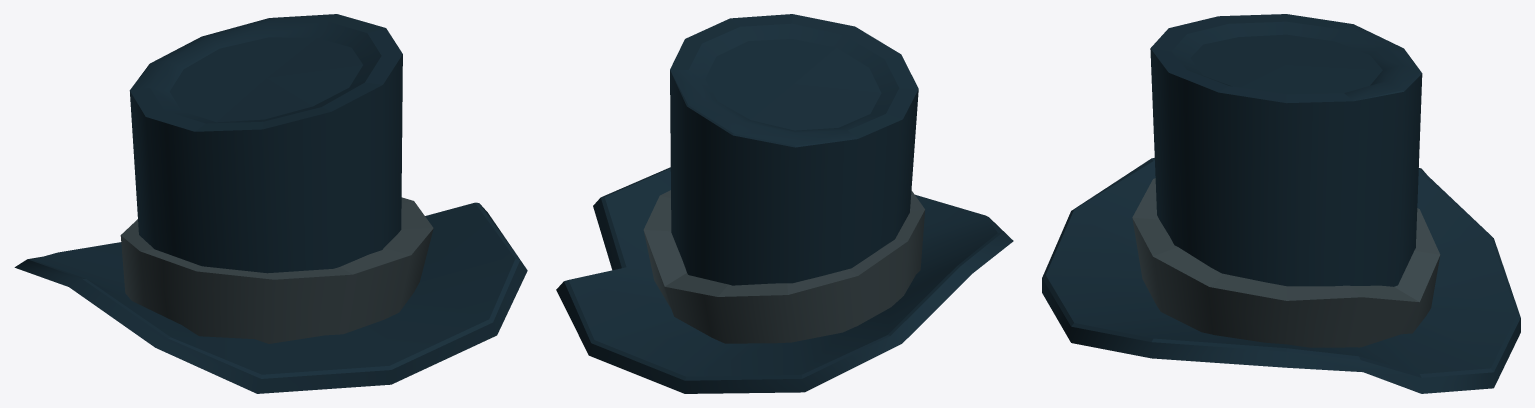
The model's file is chapeu_cartola_amassado.fbx.
3 views of the same model, side by side, from view 1: azimuth 30°, elevation 25°; view 2: azimuth 150°, elevation 25°; view 3: azimuth 270°, elevation 25° (orthographic). The views are drawn at different scales.
Parts seen in each view (by area): view 1: chapeu_cartola_amassado; view 2: chapeu_cartola_amassado; view 3: chapeu_cartola_amassado.
Part boxes in pixels (x1,y1,x2,y2): chapeu_cartola_amassado: [14, 14, 527, 393]; chapeu_cartola_amassado: [556, 14, 1013, 393]; chapeu_cartola_amassado: [1042, 14, 1520, 393].
Size of the model in its own units: 50.01 by 32.23 by 48.4.
